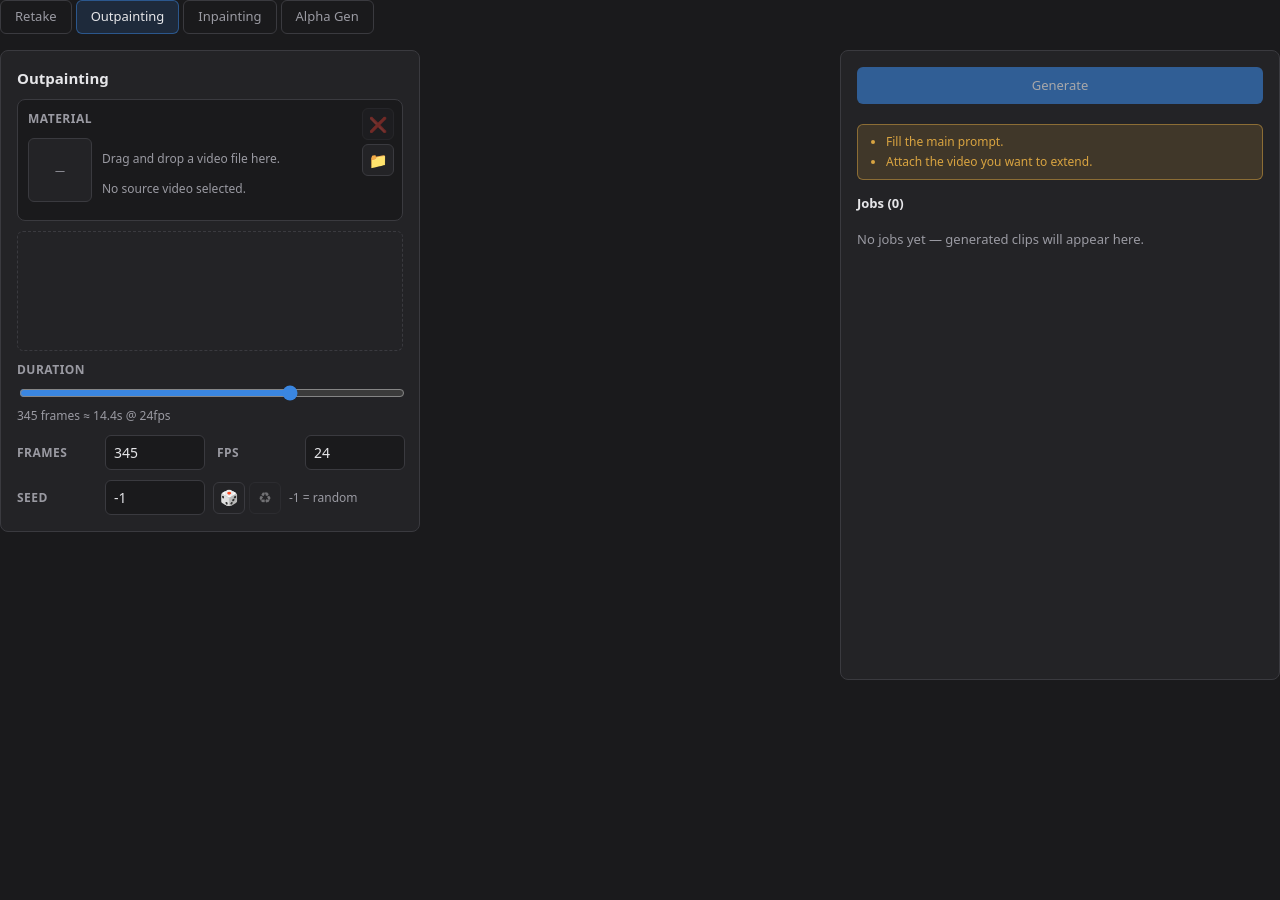
Test: OutpaintingPanel › shows the four pad sliders, starting at 0 and stepping one pixel, once a source is measured
The width and height of the screenshot is (1280, 900).
Click the button named "choose source video".
click(378, 160)  # box [362, 144, 394, 176]
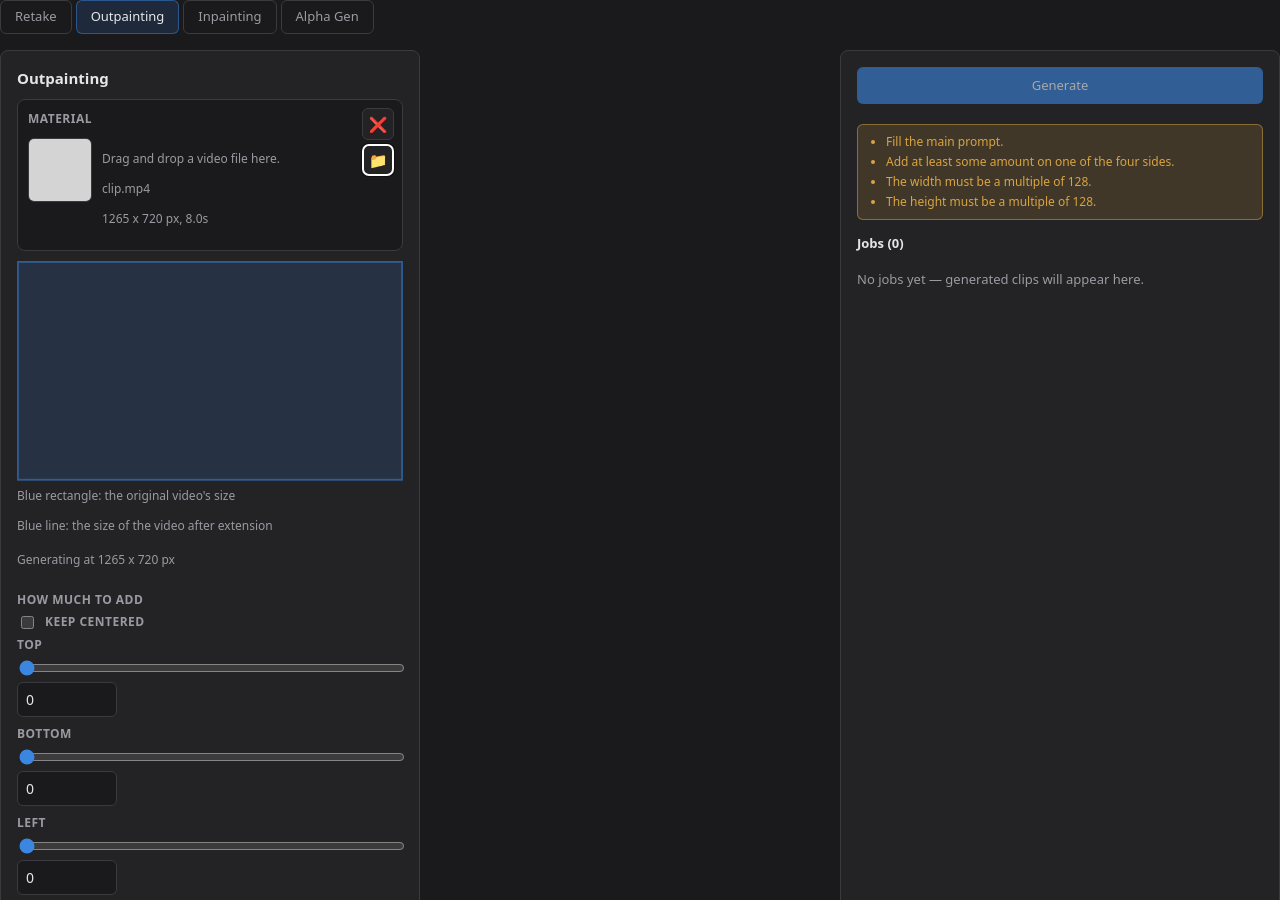
Expected: the slider labelled "Left" is shown, [19, 838, 405, 854]
Expected: the text "Generating at 1265 x 720 px" is shown, [17, 551, 175, 568]
Expected: the picture named "1265 by 720 pixels" is shown, [17, 261, 403, 481]
